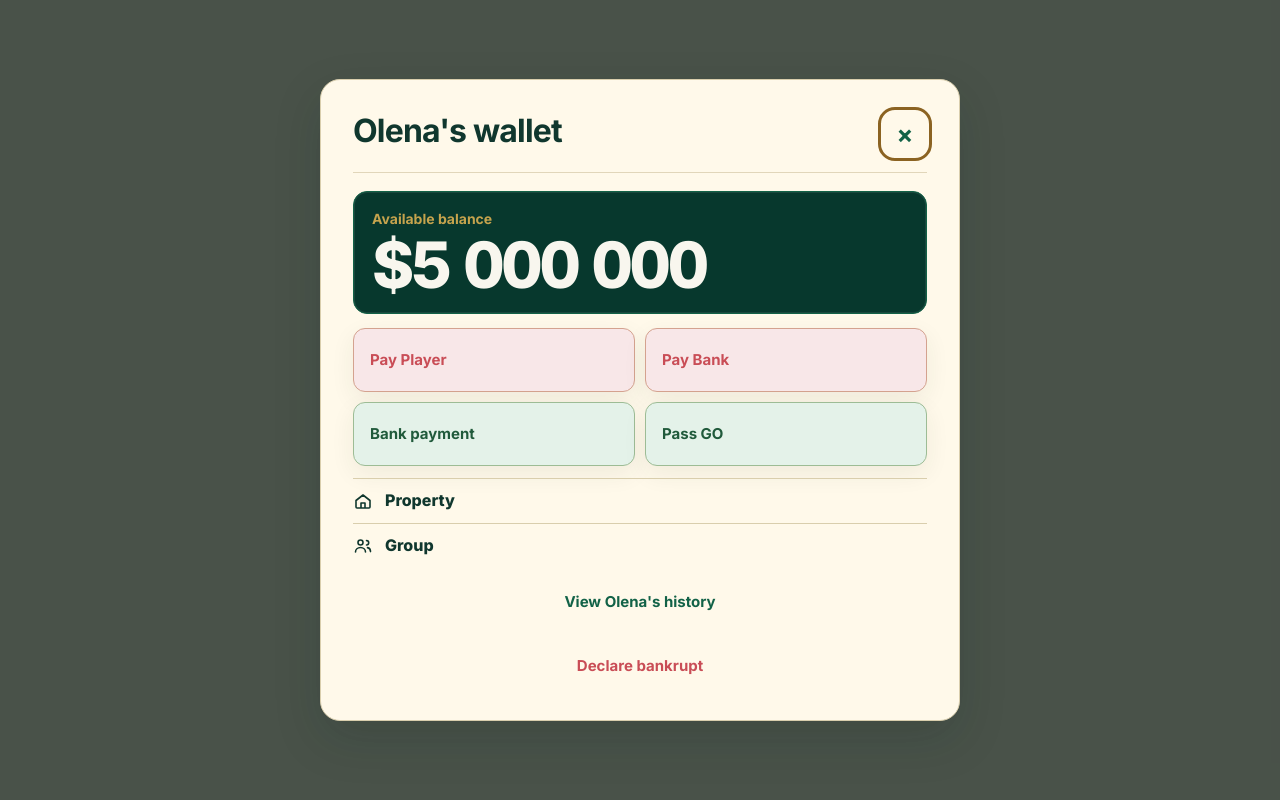
it: BankingDialog amount entry › accepts a comma typed into the field
Click the button "Pay Bank": (696, 360) [645, 328, 927, 392]
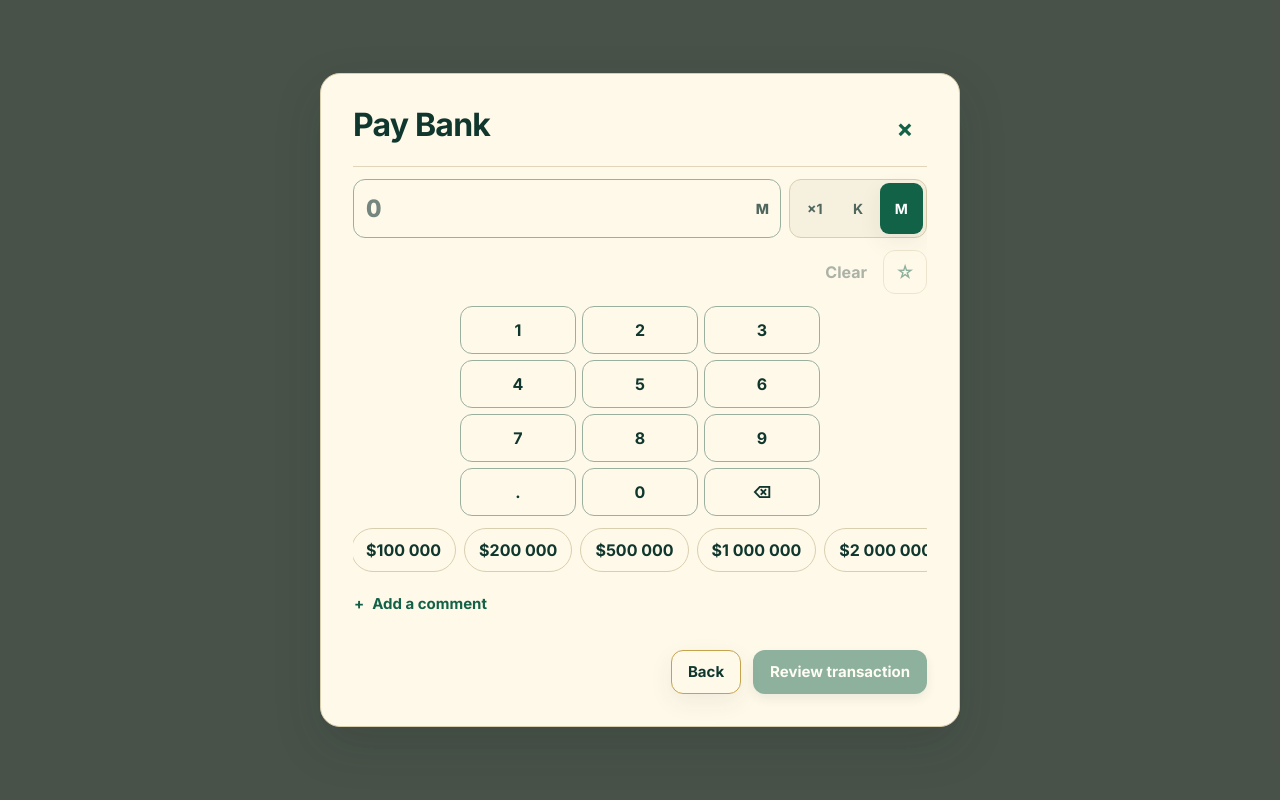
Click the button named "Millions": (901, 208) [880, 183, 923, 234]
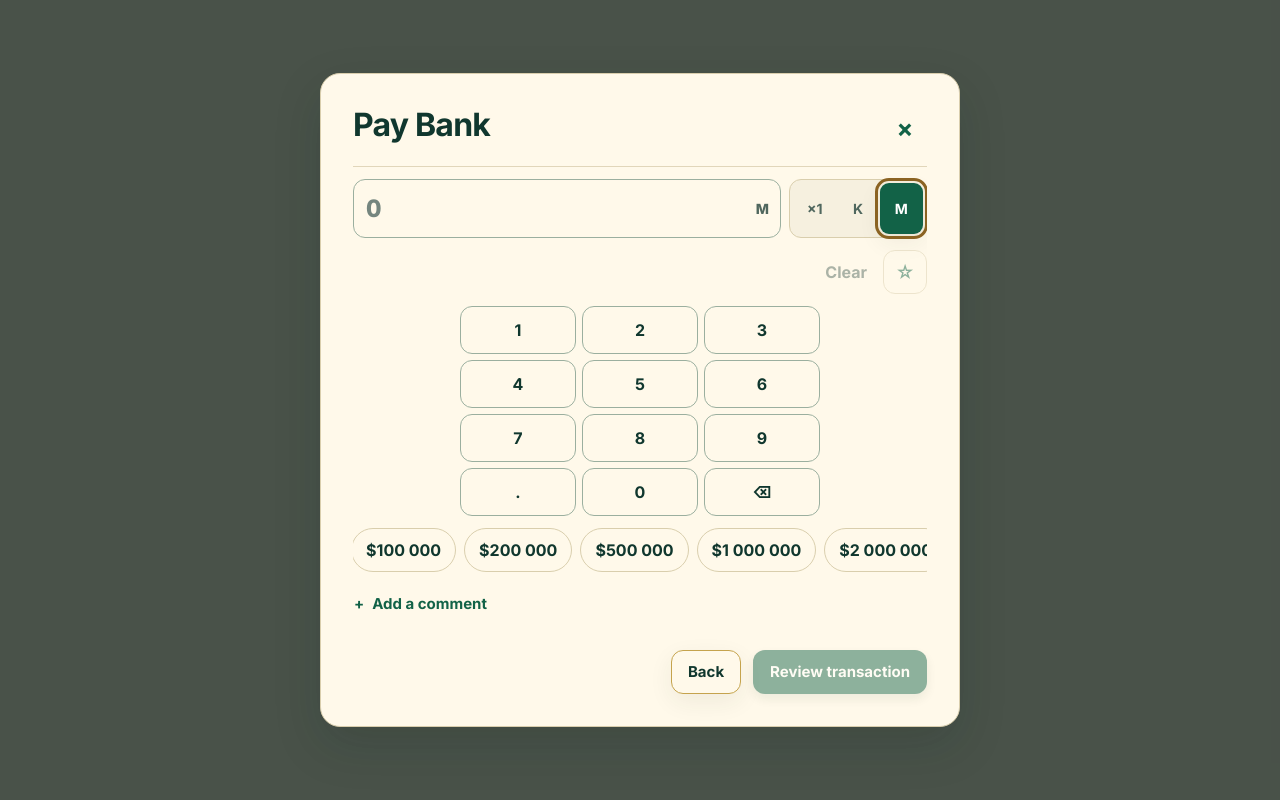
In the field named "Amount": (567, 208) [353, 179, 781, 238], type "2,5"
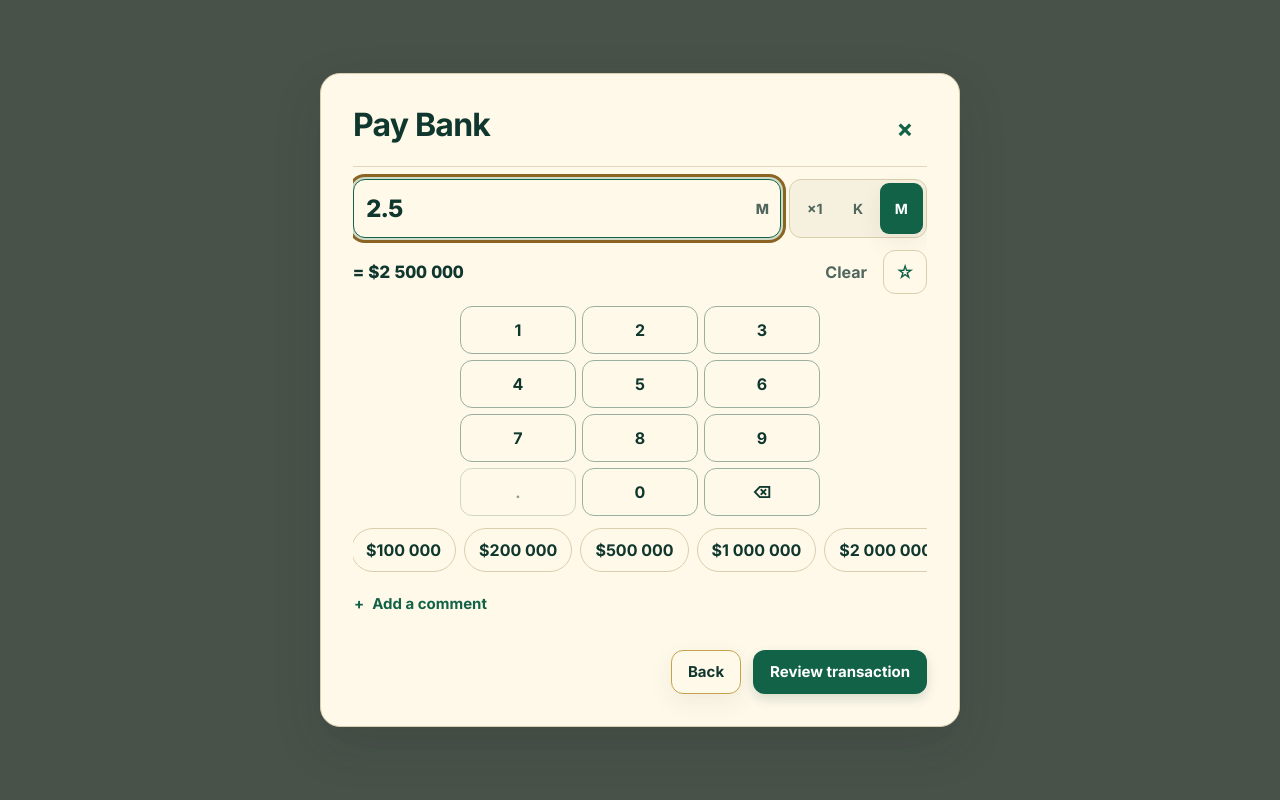
Expected: the text "= $2 500 000" is shown, [353, 259, 464, 285]
